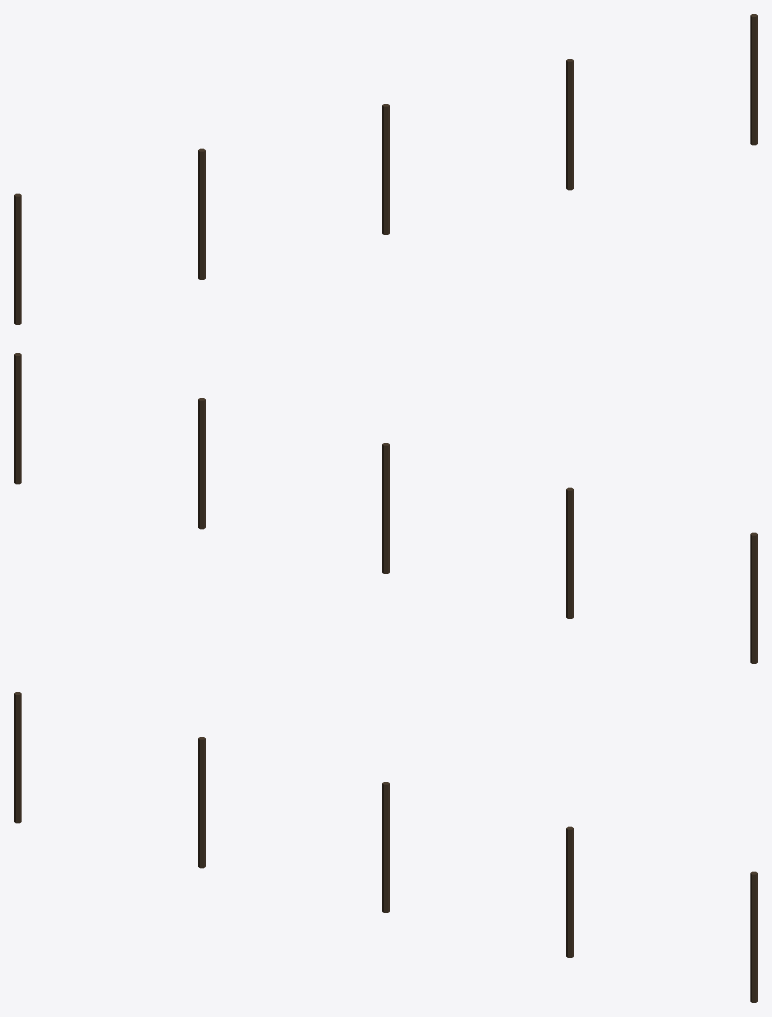
File: FacadeFlags.fbx
The picture shows the model from 3 angles, top to bottom: view 1: azimuth 30°, elevation 25°; view 2: azimuth 150°, elevation 25°; view 3: azimuth 330°, elevation 25°; orthographic projection.
Visible parts, largest first — view 1: FacadePole-24.001; view 2: FacadePole-24.001; view 3: FacadePole-24.001.
Part boxes in pixels (box(x1,y1,x2,y2)): FacadePole-24.001: box(14, 14, 757, 324); FacadePole-24.001: box(14, 353, 757, 663); FacadePole-24.001: box(14, 692, 757, 1002).
Size of the model in its own units: 4838 by 800 by 44.
